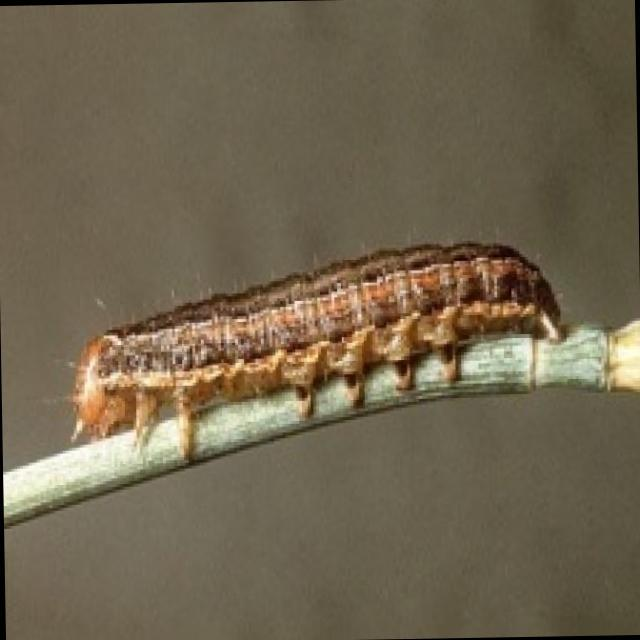Plaga: (28, 217, 584, 478)
